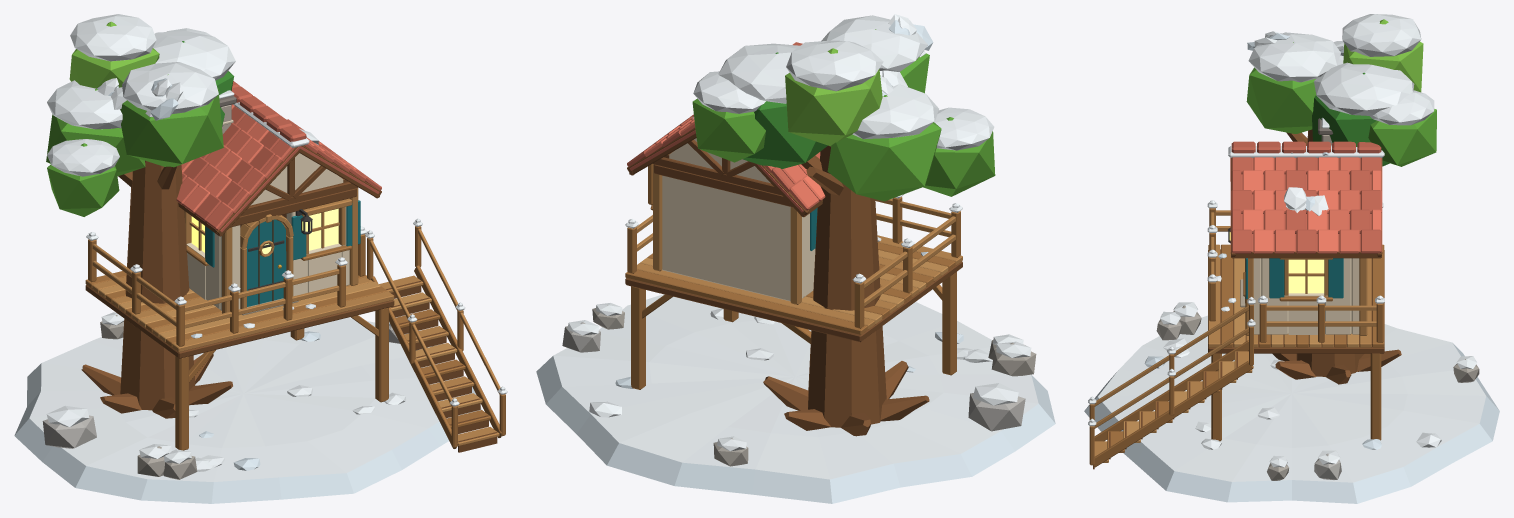
The model's file is treehouse_exterior.glb.
The picture shows the model from 3 angles, left to right: view 1: azimuth 30°, elevation 25°; view 2: azimuth 150°, elevation 25°; view 3: azimuth 270°, elevation 25°; orthographic projection. The views are drawn at different scales.
Parts seen in each view (by area): view 1: treehouse_exterior, treehouse_exterior_roof; view 2: treehouse_exterior, treehouse_exterior_roof; view 3: treehouse_exterior, treehouse_exterior_roof.
Boxes of the visible parts, box(x1,y1,x2,y2) form: treehouse_exterior: box(14, 160, 507, 503); treehouse_exterior_roof: box(46, 14, 381, 236); treehouse_exterior: box(536, 145, 1055, 503); treehouse_exterior_roof: box(627, 14, 995, 217); treehouse_exterior: box(1084, 129, 1499, 503); treehouse_exterior_roof: box(1228, 14, 1436, 258).
Size of the model in its own units: 7.6 by 6.74 by 7.18.
